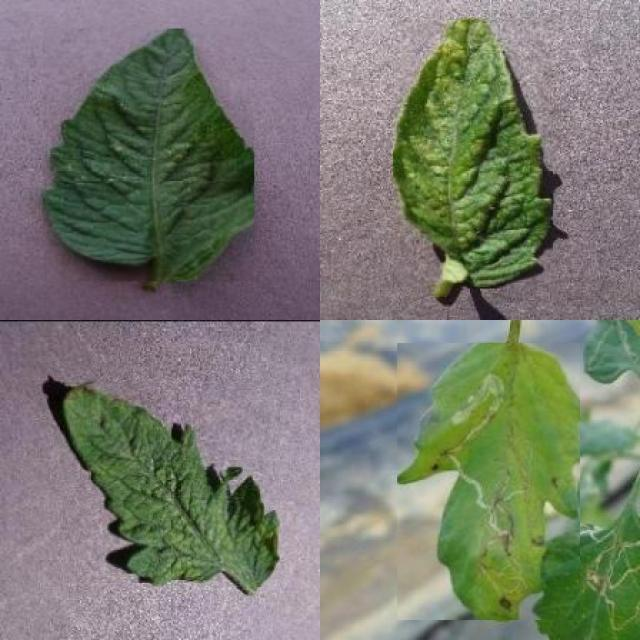Leaf Miner: (397, 344, 580, 620)
Mosaic Virus: (63, 382, 280, 588)
Spider Mites: (42, 28, 254, 282), (394, 18, 554, 288)
